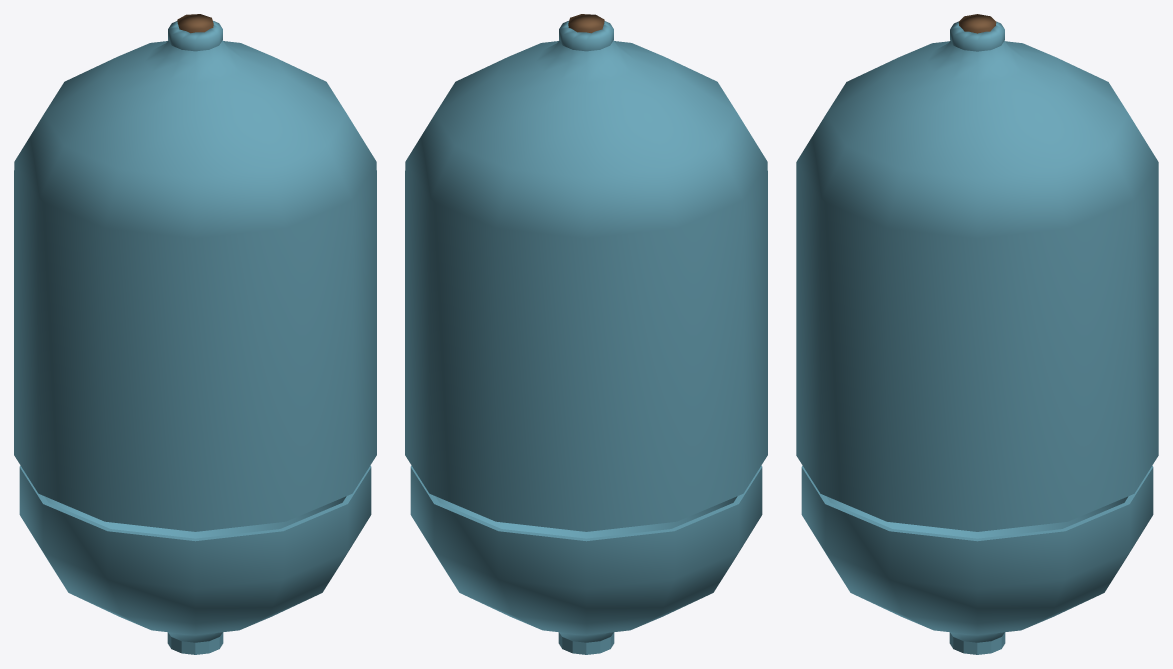
File: lungbox2.fbx
The picture shows the model from 3 angles, left to right: view 1: azimuth 30°, elevation 25°; view 2: azimuth 150°, elevation 25°; view 3: azimuth 270°, elevation 25°; orthographic projection.
Visible parts, largest first — view 1: GLASS1, GLASS_CUP, CAP1; view 2: GLASS1, GLASS_CUP, CAP1; view 3: GLASS1, GLASS_CUP, CAP1.
Part boxes in pixels (<box>): GLASS1: <box>14,21,376,531</box>; GLASS_CUP: <box>19,465,371,654</box>; CAP1: <box>177,14,213,33</box>; GLASS1: <box>405,21,767,531</box>; GLASS_CUP: <box>410,465,762,654</box>; CAP1: <box>568,14,604,33</box>; GLASS1: <box>796,21,1158,531</box>; GLASS_CUP: <box>801,466,1153,654</box>; CAP1: <box>958,14,996,33</box>.
Size of the model in its own units: 133 by 253 by 133.
